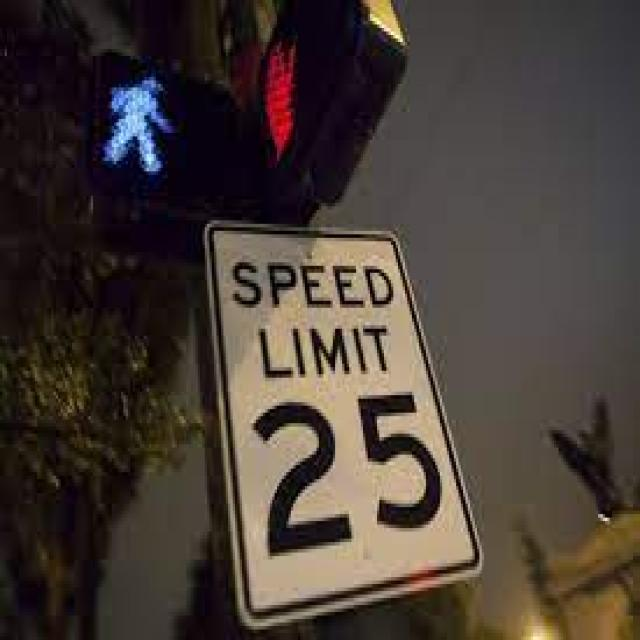speedLimit25: (204, 220, 481, 619)
